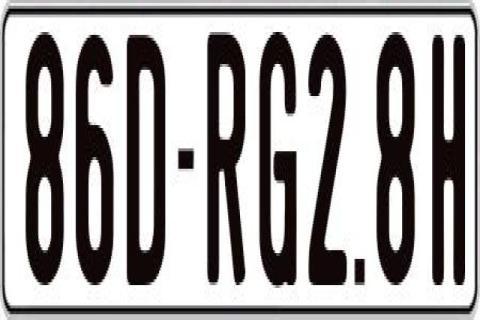0: (26, 29, 70, 291), (306, 26, 349, 294), (73, 26, 113, 291), (376, 29, 414, 297)
D: (124, 29, 164, 288)
G: (256, 29, 296, 291)
H: (429, 35, 464, 294)
R: (204, 27, 248, 280)
